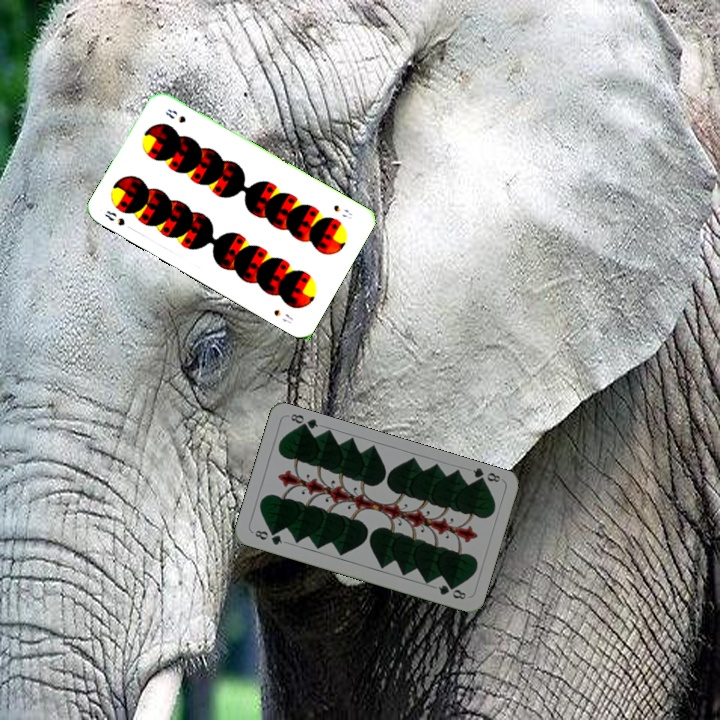G8: (468, 464, 503, 487), (249, 526, 285, 548)
S8: (101, 206, 128, 229), (329, 201, 354, 222)
